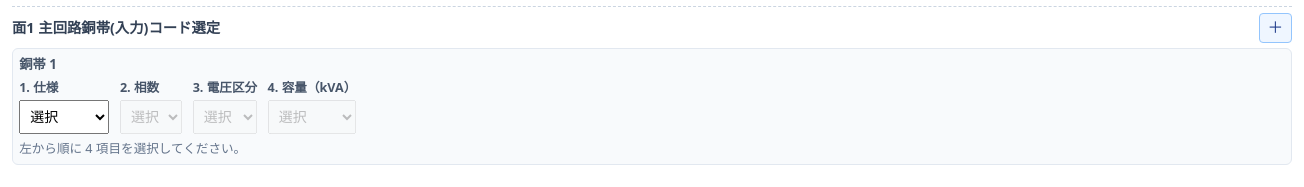
Test: BusbarSelector › narrows the candidates step by step and shows 区分なし（1Φ） for 1Φ
Select "公共建築" in the dropdown named "面1 銅帯1 仕様". click: (64,117)
box: [19, 100, 109, 134]
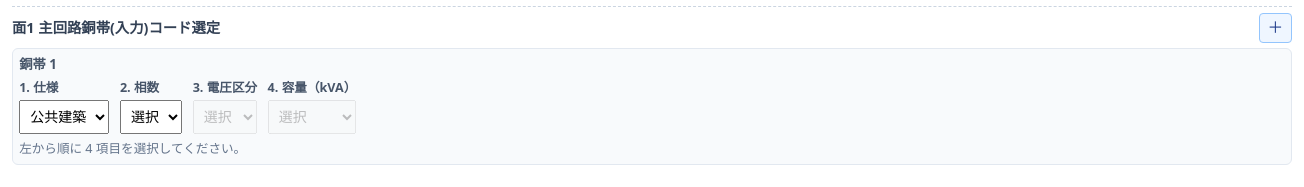
Select "1Φ" in the dropdown named "面1 銅帯1 相数". click: (151,117)
box: [120, 100, 182, 134]
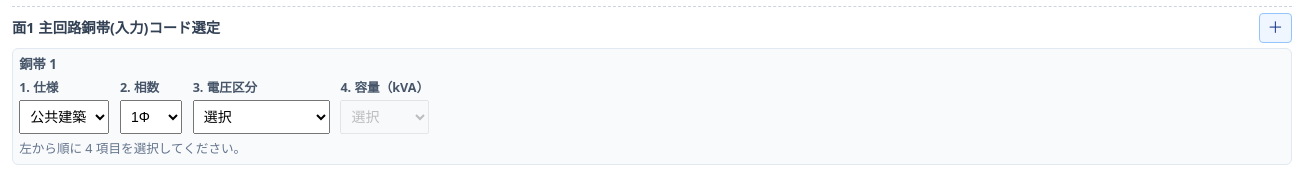
Select "区分なし（1Φ）" in the dropdown named "面1 銅帯1 電圧区分". click: (261,117)
box: [193, 100, 330, 134]
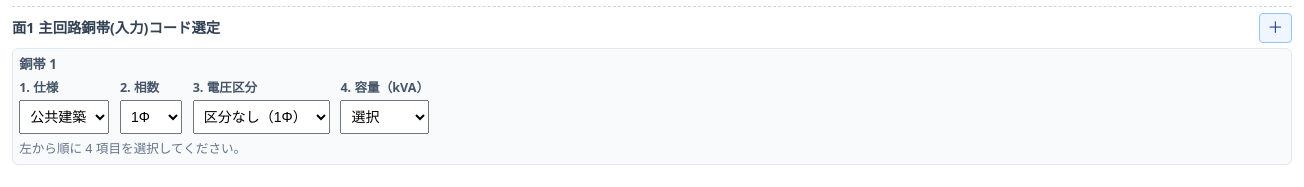
Select "10" in the dropdown named "面1 銅帯1 容量（kVA）". click: (385,117)
box: [340, 100, 429, 134]
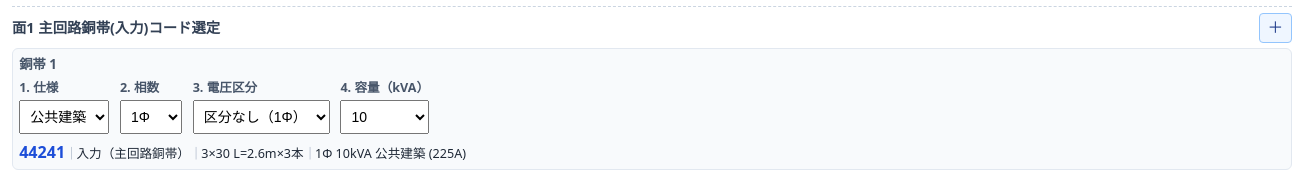
Check: the text with class "busbar-selector__code" reads "44241", box [19, 141, 65, 163]
